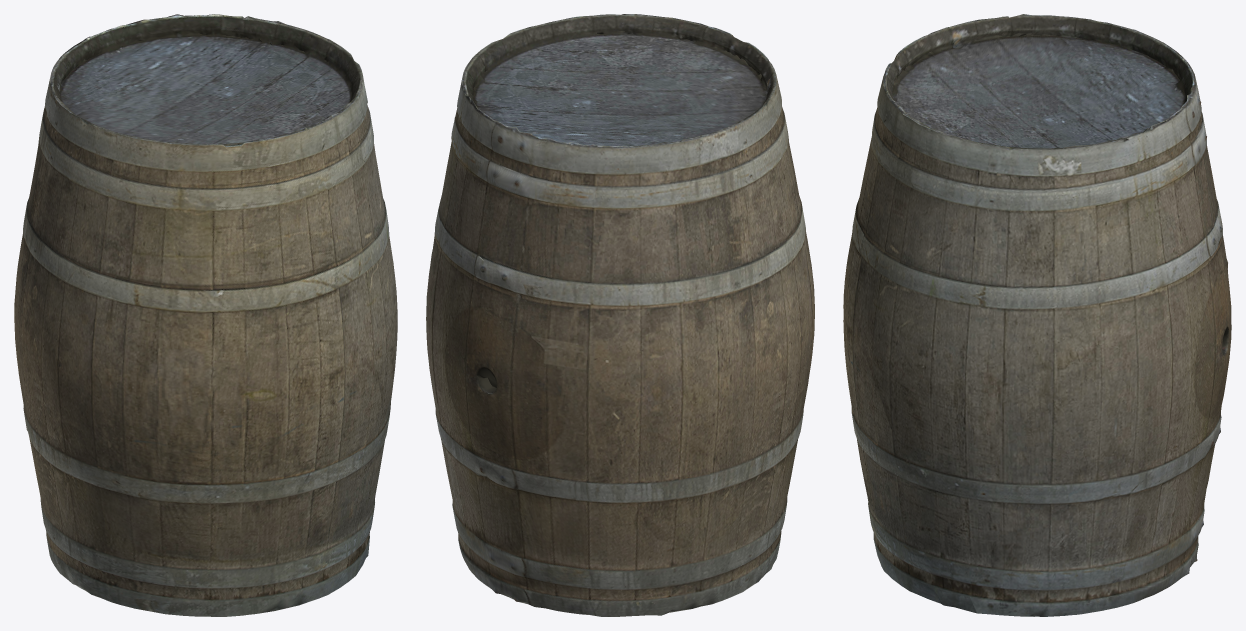
File: MOD_BarrelB.fbx
3 renders of one model, left to right at view 1: azimuth 30°, elevation 25°; view 2: azimuth 150°, elevation 25°; view 3: azimuth 270°, elevation 25°, orthographic.
Visible parts, largest first — view 1: MOD_BarrelB; view 2: MOD_BarrelB; view 3: MOD_BarrelB.
Boxes of the visible parts, <box> form: MOD_BarrelB: <box>14,14,397,616</box>; MOD_BarrelB: <box>426,14,814,616</box>; MOD_BarrelB: <box>843,14,1231,616</box>.
Bounding box in the file's own units: 67.61 × 92.07 × 68.56.
